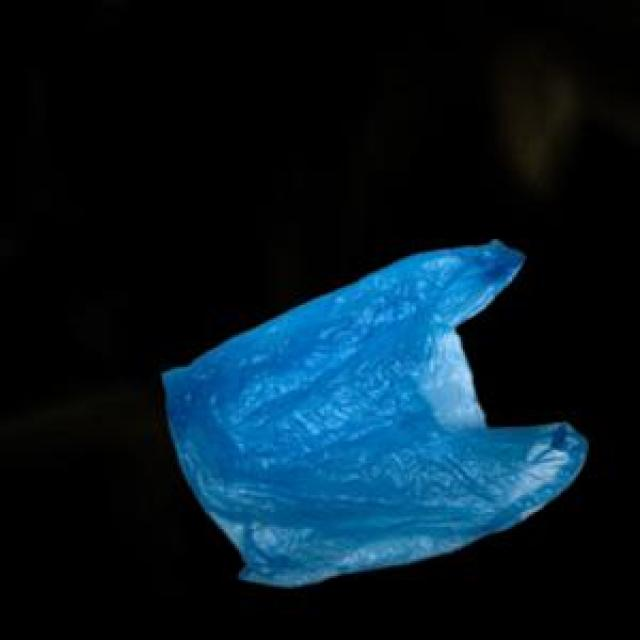plastic: (114, 231, 614, 618)
